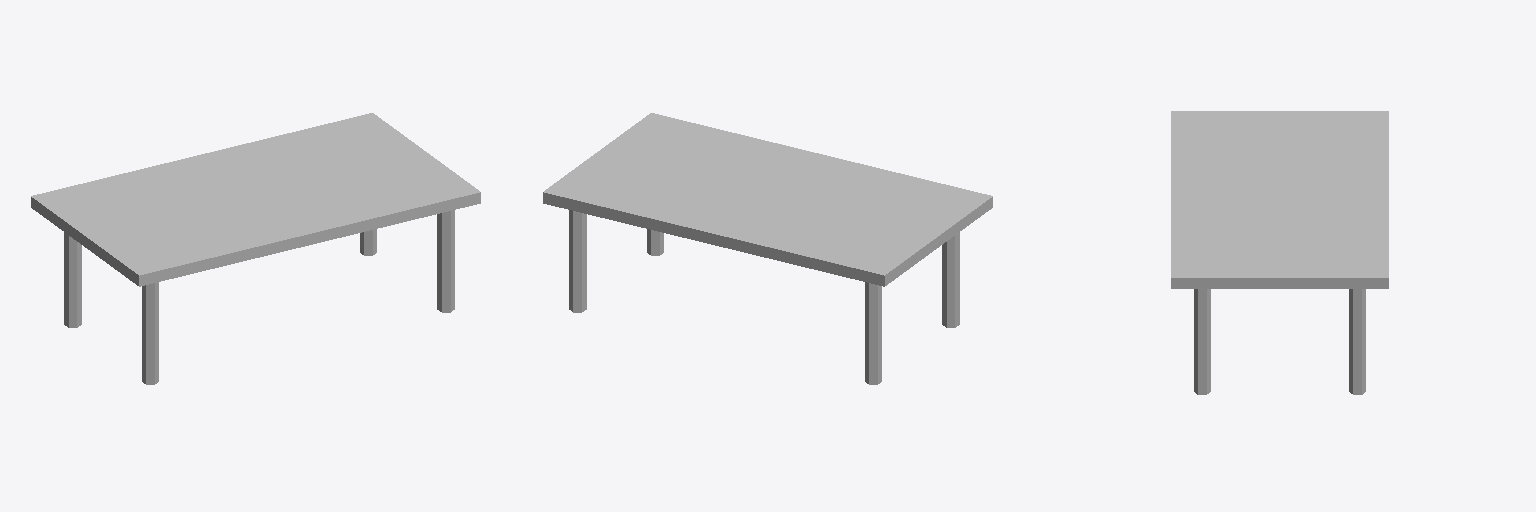
Rendered from Tall Table.obj.
The picture shows the model from 3 angles: view 1: azimuth 30°, elevation 25°; view 2: azimuth 150°, elevation 25°; view 3: azimuth 270°, elevation 25°; orthographic projection.
Visible parts, largest first — view 1: Cube, Leg.010_Cylinder.010, Leg.009_Cylinder.009, Leg.008_Cylinder.008; view 2: Cube, Leg.011_Cylinder.011, Leg.008_Cylinder.008, Leg.009_Cylinder.009; view 3: Cube, Leg.011_Cylinder.011, Leg.010_Cylinder.010.
Boxes of the visible parts, <box> form: Cube: <box>31,113,480,286</box>; Leg.010_Cylinder.010: <box>437,210,454,312</box>; Leg.009_Cylinder.009: <box>142,282,158,384</box>; Leg.008_Cylinder.008: <box>64,232,81,327</box>; Cube: <box>543,113,992,286</box>; Leg.011_Cylinder.011: <box>569,210,586,312</box>; Leg.008_Cylinder.008: <box>865,282,881,384</box>; Leg.009_Cylinder.009: <box>942,232,959,327</box>; Cube: <box>1171,111,1388,288</box>; Leg.011_Cylinder.011: <box>1349,289,1365,394</box>; Leg.010_Cylinder.010: <box>1194,289,1210,394</box>.
Bounding box in the file's own units: 12.74 × 4.4 × 7.